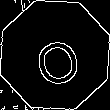O_N: (26, 24, 84, 86)
